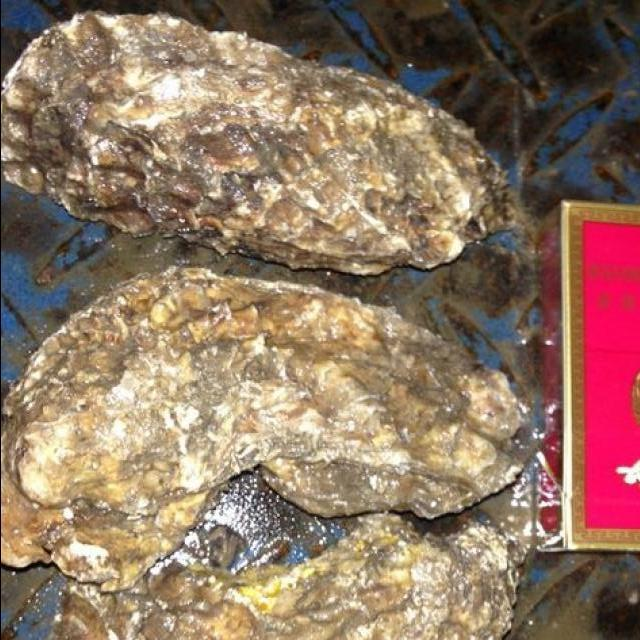Oyster- Indeterminate: (2, 268, 526, 591), (2, 12, 514, 273), (141, 514, 522, 640)
